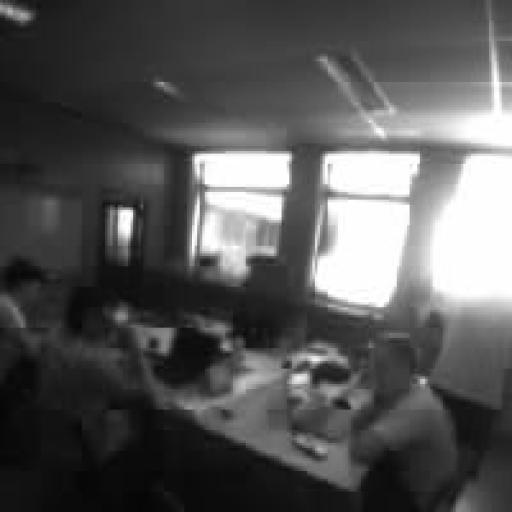human: (38, 287, 154, 458), (351, 333, 458, 511), (431, 300, 511, 473), (0, 253, 41, 385)
